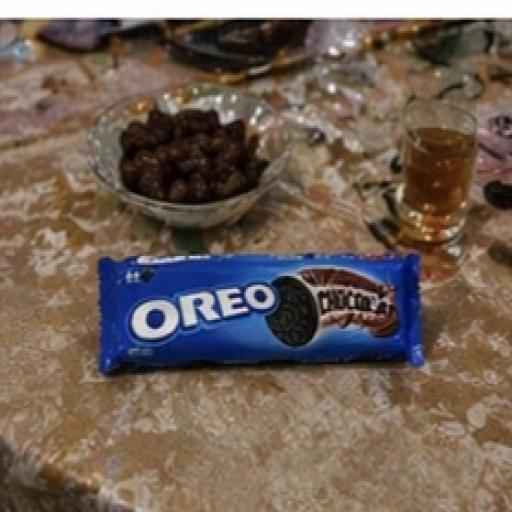oreo: (48, 180, 468, 414)
